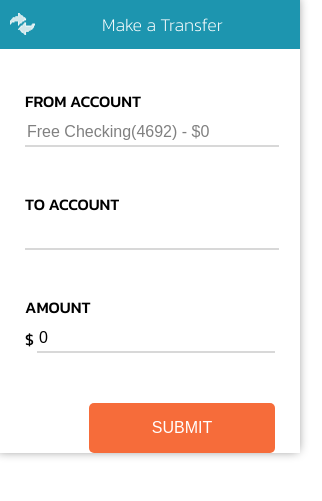
TransactionForm.vue › displays error message when accountTo is empty
Click the button with class "submit-button". click: x=182, y=428
box: [89, 403, 275, 453]
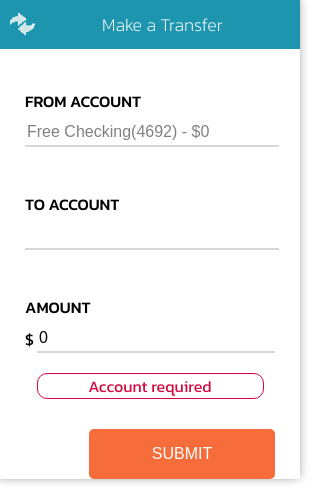
Check: the text "Account required" is shown, box [36, 373, 264, 399]
